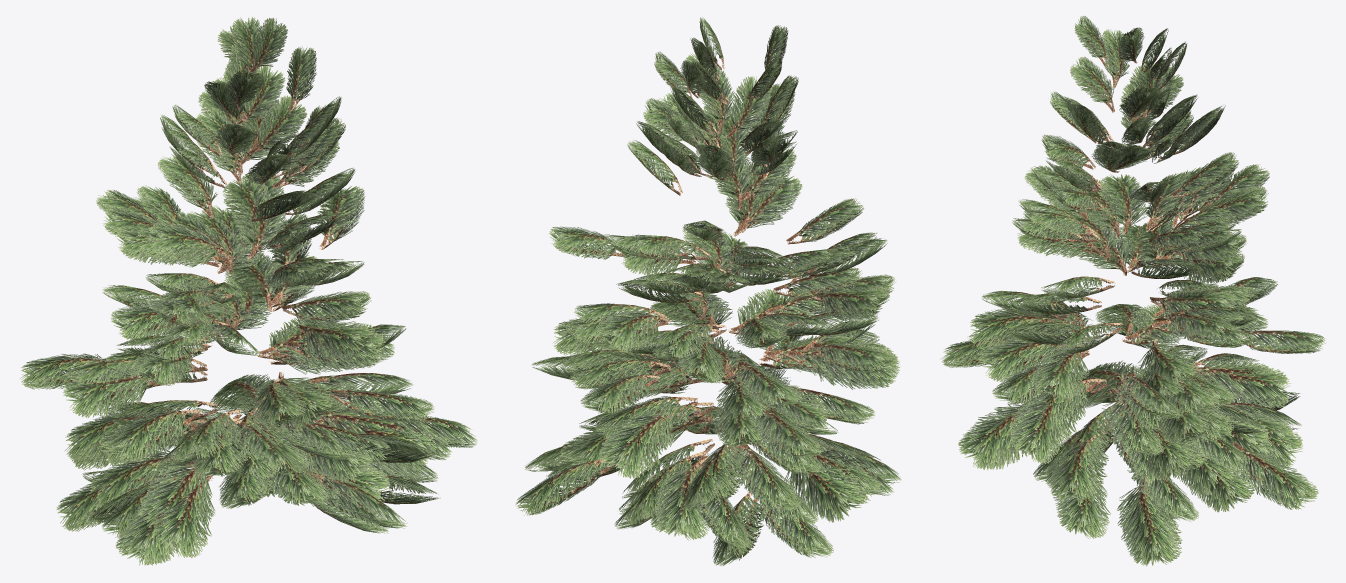
File: PleaseHaveTextures.fbx
3 views of the same model, side by side, from view 1: azimuth 30°, elevation 25°; view 2: azimuth 150°, elevation 25°; view 3: azimuth 270°, elevation 25° (orthographic). The views are drawn at different scales.
Visible parts, largest first — view 1: ZexportLeaves; view 2: ZexportLeaves; view 3: ZexportLeaves.
Part boxes in pixels (bbox=[...]): ZexportLeaves: bbox=[20, 17, 477, 565]; ZexportLeaves: bbox=[515, 17, 901, 565]; ZexportLeaves: bbox=[940, 16, 1326, 566].
Bounding box in the file's own units: 2550 × 3253 × 2509.
1 material, 1 textured.
